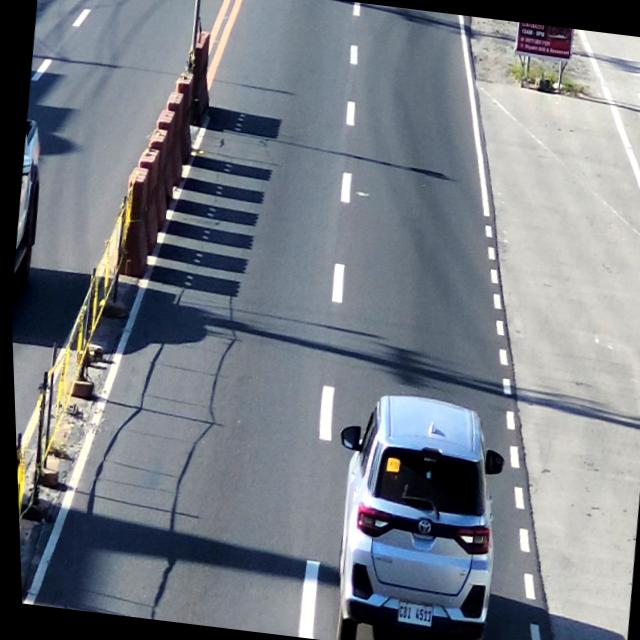Car: (320, 394, 511, 640)
License-Plate: (386, 595, 433, 633)
